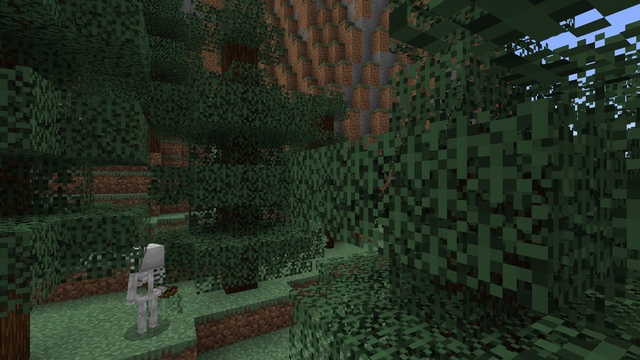squelettes: (130, 242, 161, 338)
